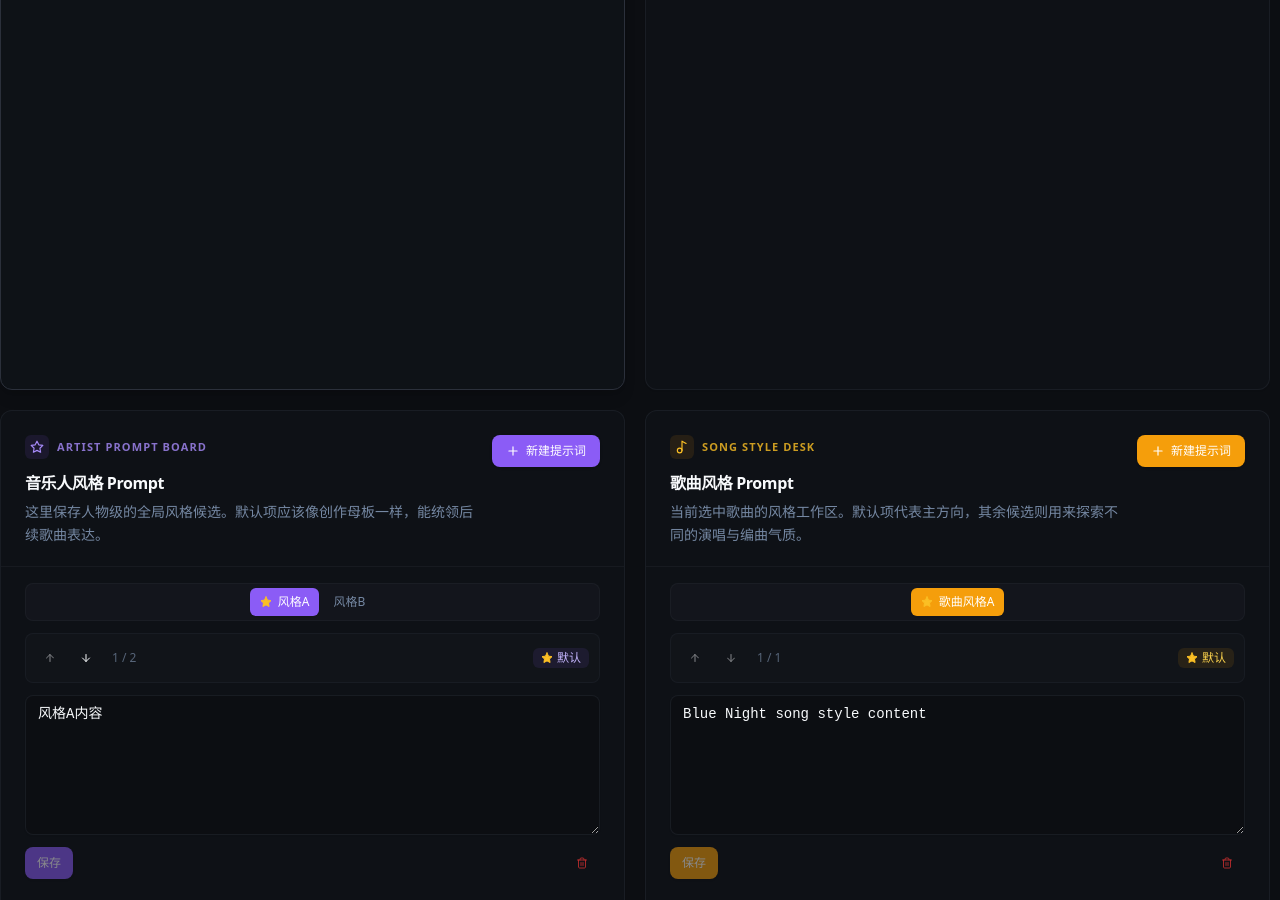
Test: ArtistWorkspace › opens the create artist prompt dialog when clicking the new prompt button
(page scrolled)
Expected: the text "音乐人风格 Prompt" is shown, left=25, top=472, right=164, bottom=494
Click the button "新建提示词" in the row of "Artist Prompt Board".
click(546, 451)  # box left=492, top=435, right=600, bottom=467
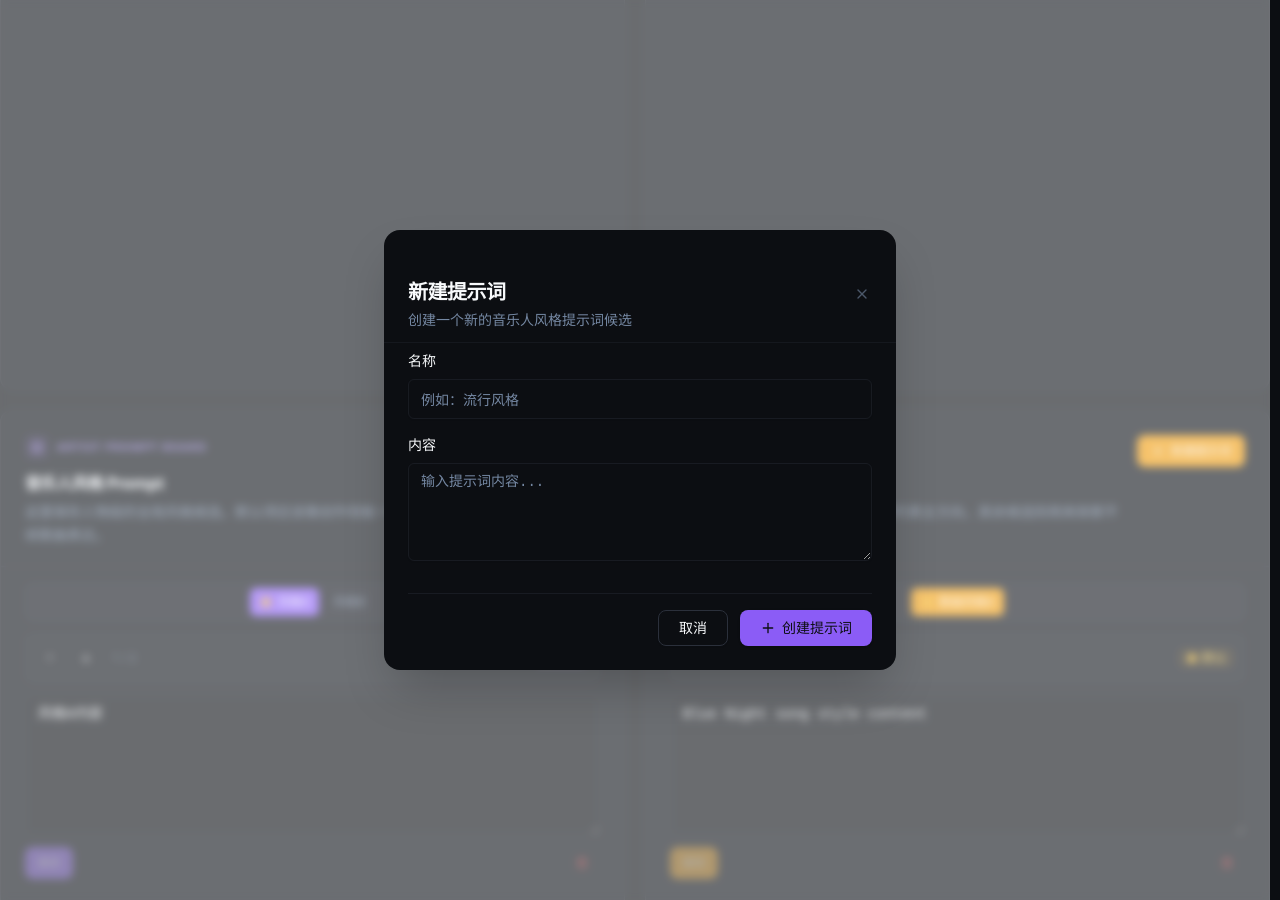
Now the field with placeholder "例如：流行风格" is shown, box left=408, top=379, right=872, bottom=419
